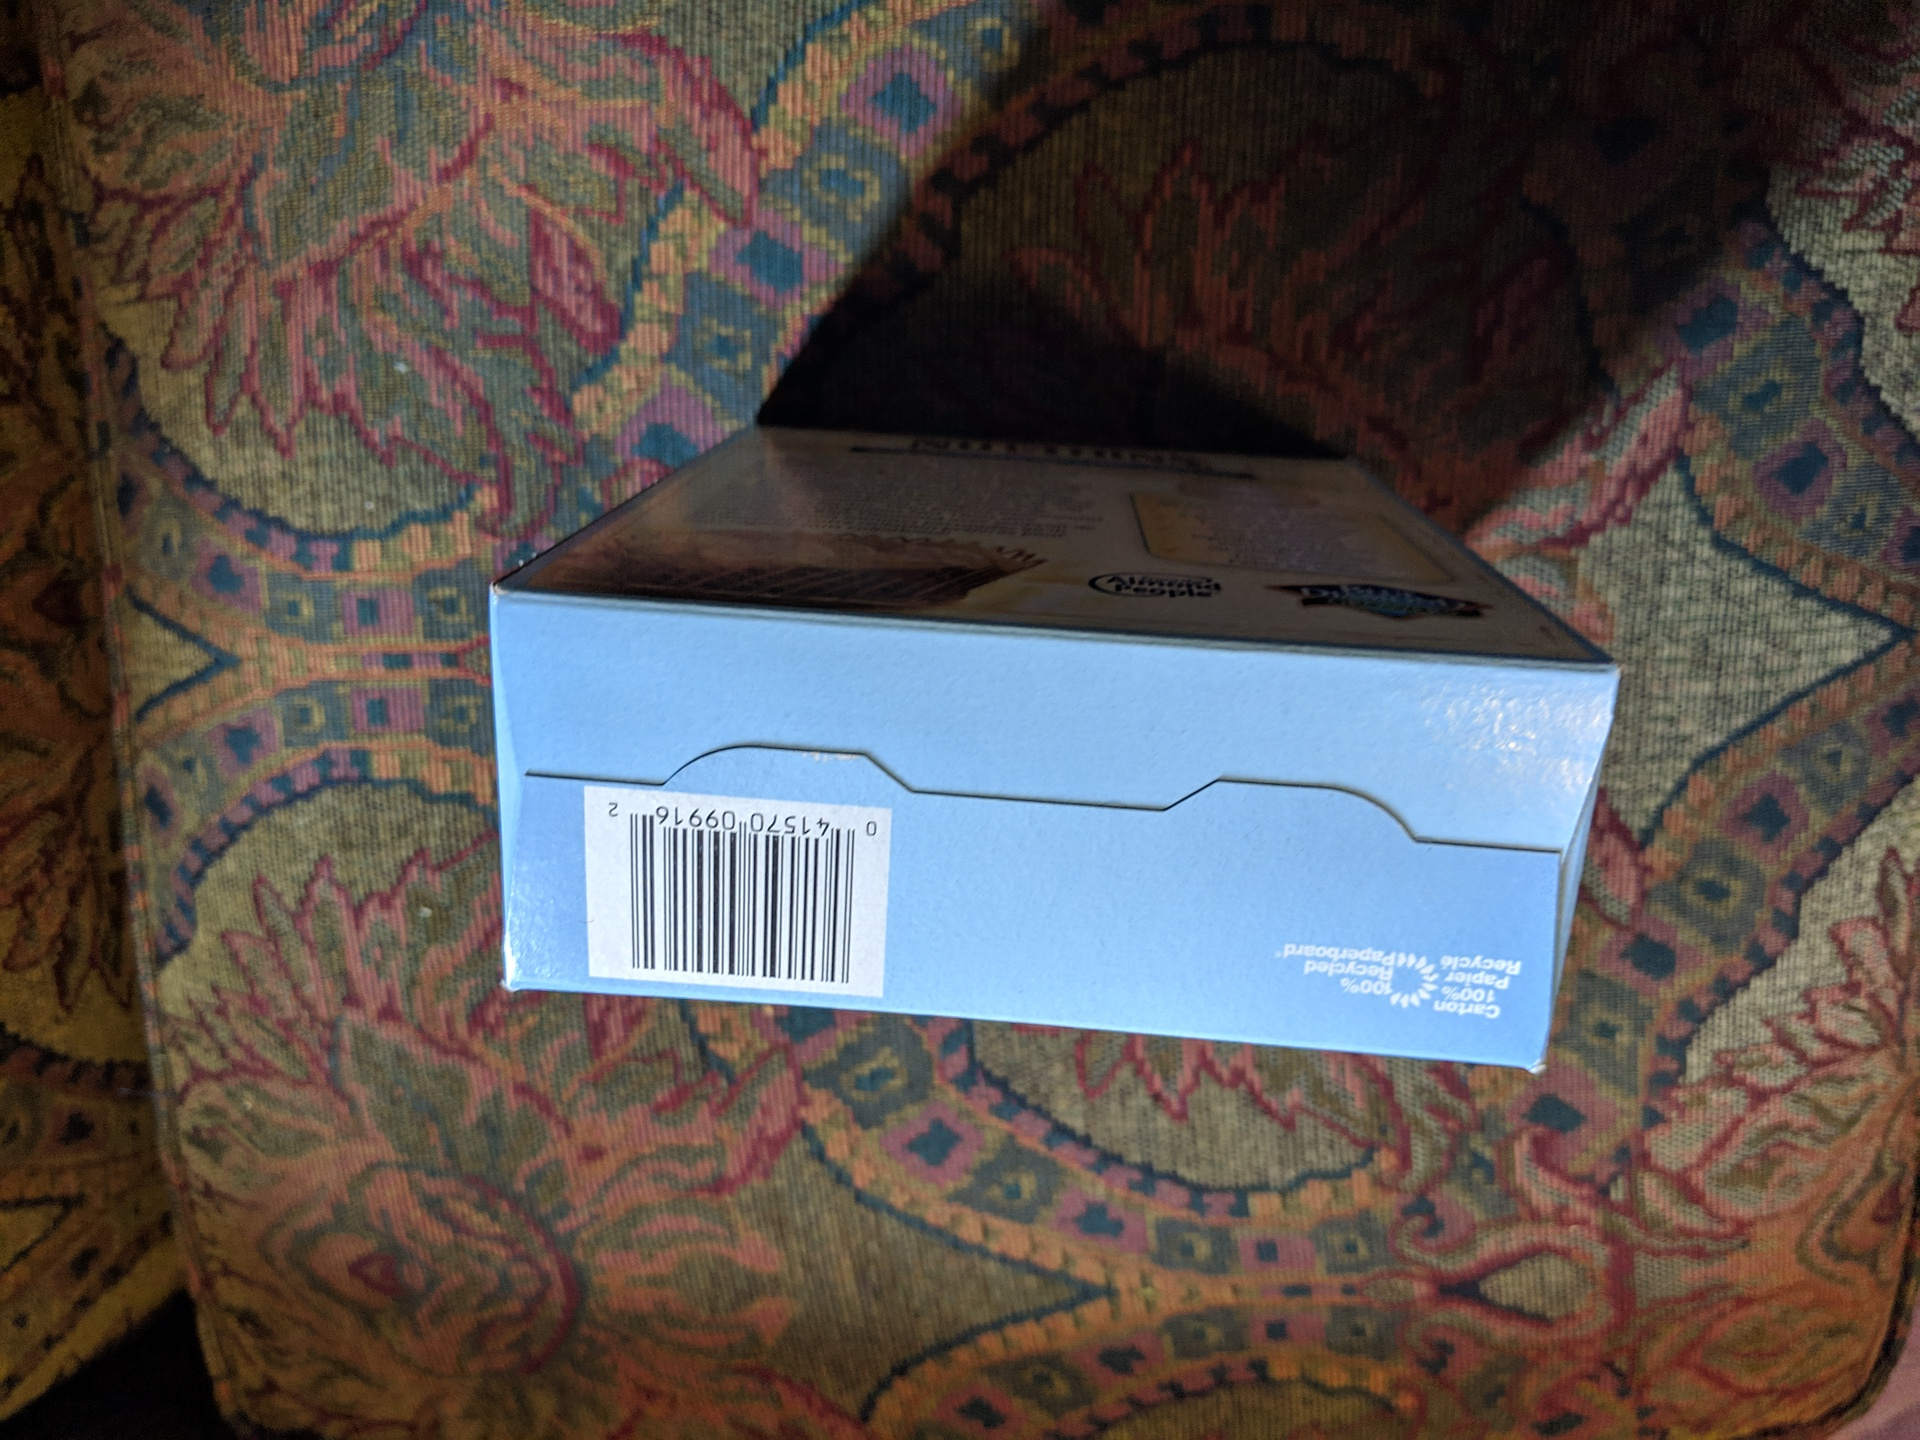blue_diamond_nut_thins_almond_seasalt: (509, 442, 1610, 992)
